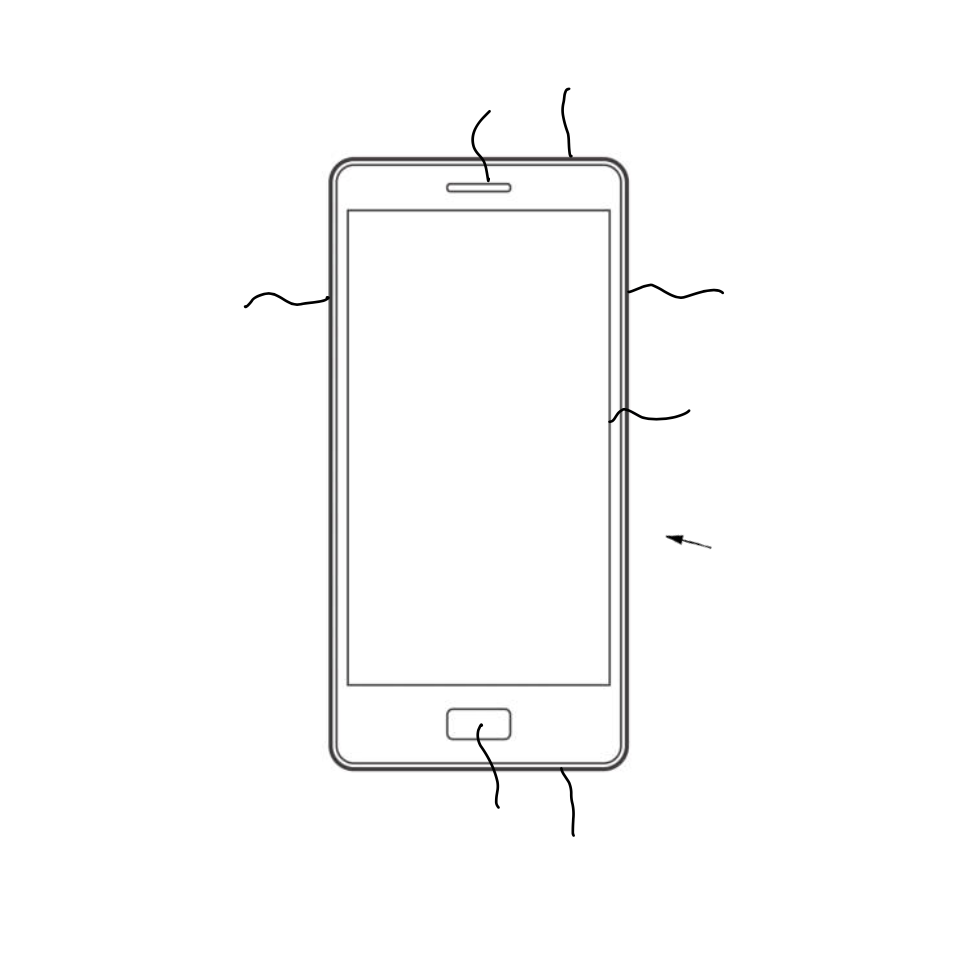Callout: (614, 252, 753, 339), (221, 258, 344, 345), (589, 370, 707, 446), (438, 89, 517, 198), (465, 709, 525, 825), (545, 743, 599, 868), (650, 505, 722, 577), (547, 63, 586, 179)
